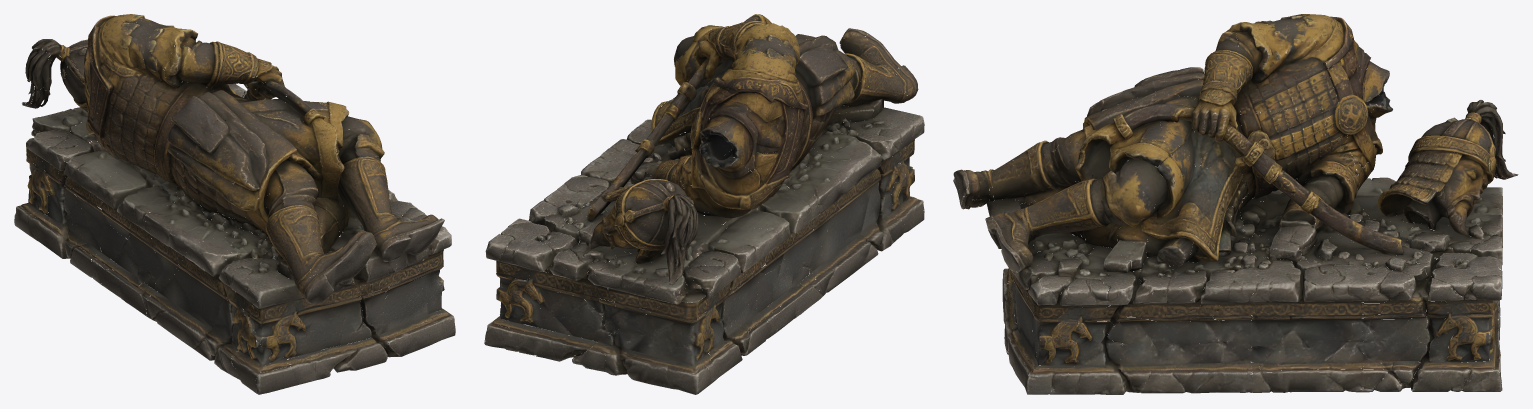
Rendered from golden-statue-tripo.glb.
The picture shows the model from 3 angles, left to right: view 1: azimuth 30°, elevation 25°; view 2: azimuth 150°, elevation 25°; view 3: azimuth 270°, elevation 25°; orthographic projection. The views are drawn at different scales.
Visible parts, largest first — view 1: tripo_node_8e430173-0901-4748-8580-4a9720b668dc; view 2: tripo_node_8e430173-0901-4748-8580-4a9720b668dc; view 3: tripo_node_8e430173-0901-4748-8580-4a9720b668dc.
Part boxes in pixels (x1,y1,x2,y2): tripo_node_8e430173-0901-4748-8580-4a9720b668dc: [14, 14, 455, 394]; tripo_node_8e430173-0901-4748-8580-4a9720b668dc: [484, 14, 924, 394]; tripo_node_8e430173-0901-4748-8580-4a9720b668dc: [953, 14, 1518, 394].
Bounding box in the file's own units: 0.4921 × 0.5557 × 1.
1 material, 1 textured.
